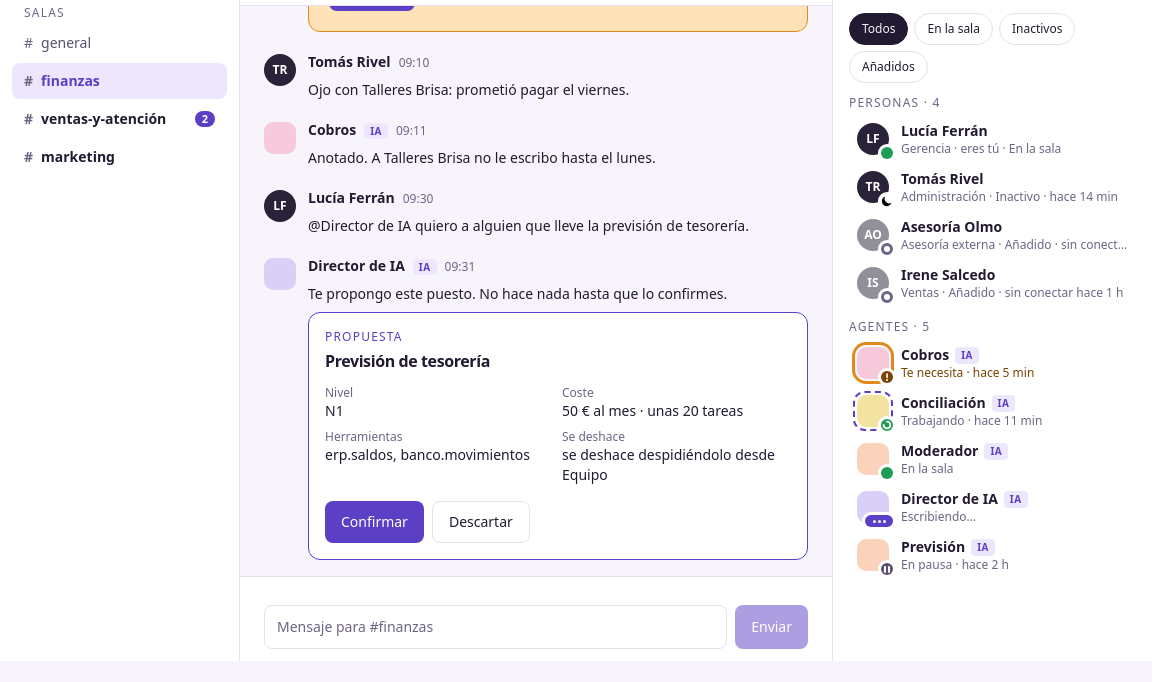
Scenario: VistaDeSalaV1 › confirma una propuesta de verdad: decidirPropuesta cambia su estado
(page scrolled)
Click the button "Confirmar". click: click(374, 522)
box: [325,501,424,543]
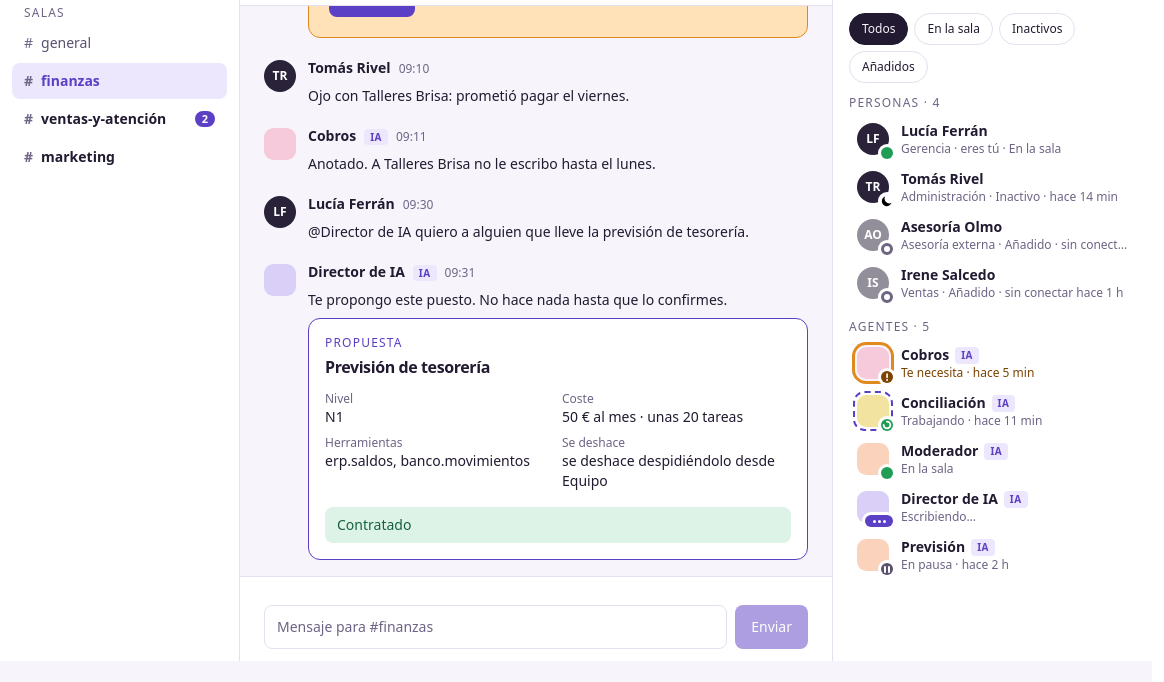
Expected: the message reads "Contratado", [337,515,411,534]
Expected: the button "Confirmar" is gone
Expected: the button "Descartar" is gone
